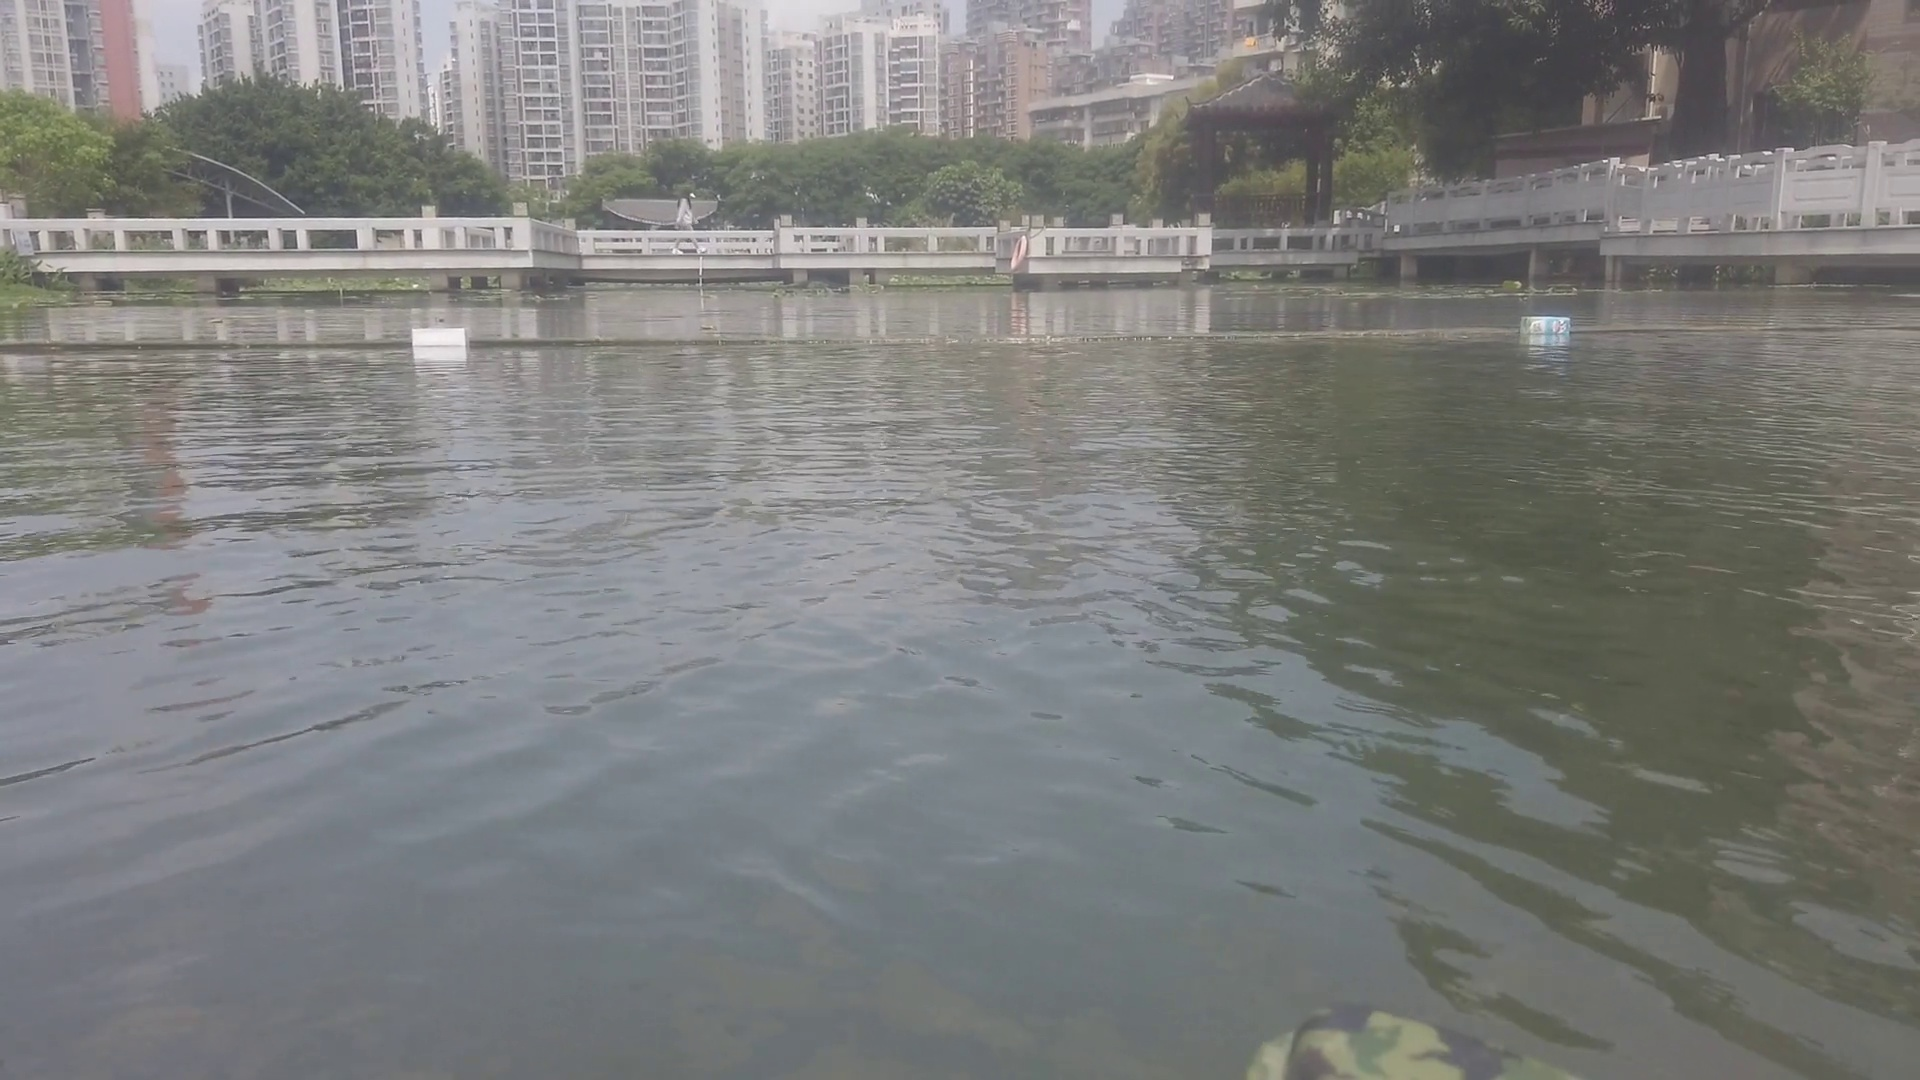carton: (407, 324, 472, 349), (1513, 315, 1577, 338)
